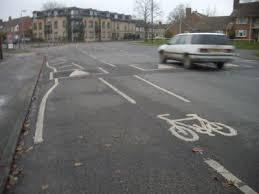Bump: (41, 60, 258, 83)
